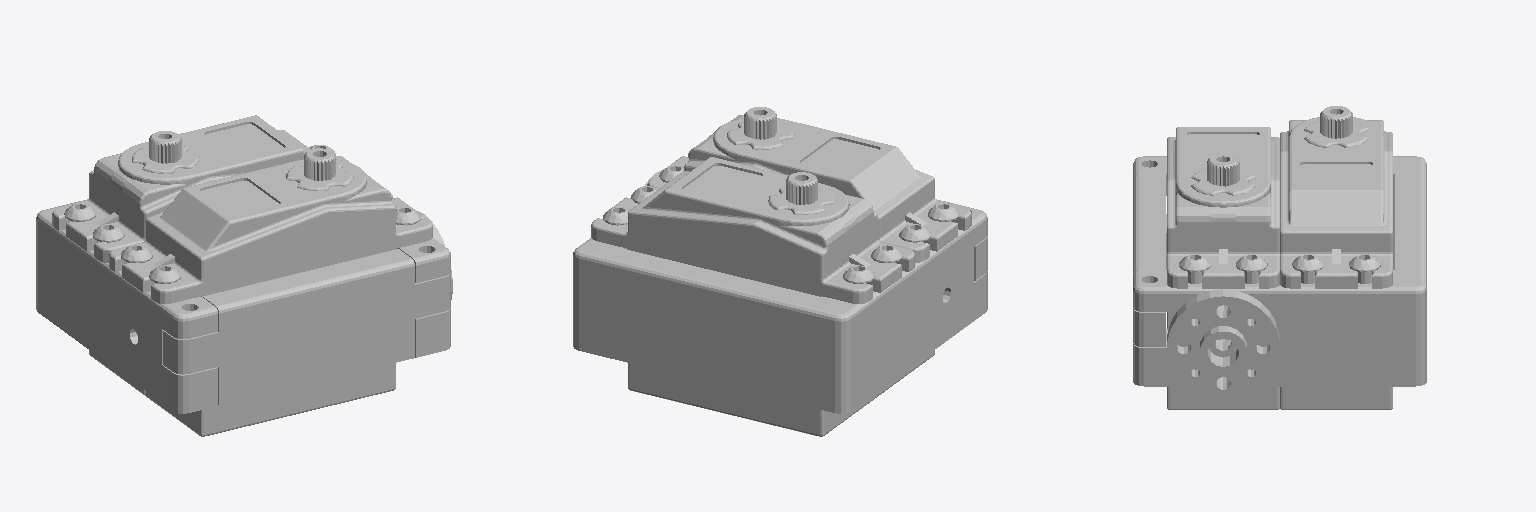
The model's file is rf shoulder.obj.
The picture shows the model from 3 angles: view 1: azimuth 30°, elevation 25°; view 2: azimuth 150°, elevation 25°; view 3: azimuth 270°, elevation 25°; orthographic projection.
Parts seen in each view (by area): view 1: Body4, Body7, Body6, Body4:1, Body2, Body3:1, Body3; view 2: Body6, Body4:1, Body4, Body2:1, Body3, Body3:1; view 3: Body6, Body4:1, Body4, Body1:10, Body7, Body2:1, Body2, Body3:1, Body3, Body1:6, Body1:9, Body1:8 (+1 smaller).
Boxes of the visible parts, box(x1,y1,x2,y2) form: Body4: box(109, 156, 432, 303); Body7: box(163, 249, 450, 405); Body6: box(36, 199, 450, 413); Body4:1: box(52, 115, 347, 262); Body2: box(146, 363, 395, 436); Body3:1: box(149, 131, 181, 163); Body3: box(304, 148, 335, 180); Body6: box(573, 203, 987, 413); Body4:1: box(591, 157, 914, 303); Body4: box(647, 115, 971, 262); Body2:1: box(628, 363, 877, 436); Body3: box(744, 107, 776, 139); Body3:1: box(786, 172, 817, 204); Body6: box(1133, 156, 1426, 386); Body4:1: box(1280, 117, 1392, 288); Body4: box(1167, 127, 1279, 288); Body1:10: box(1167, 289, 1279, 398); Body7: box(1133, 174, 1165, 346); Body2:1: box(1280, 387, 1392, 409); Body2: box(1167, 387, 1279, 409); Body3:1: box(1320, 106, 1352, 138); Body3: box(1207, 154, 1239, 186); Body1:6: box(1179, 254, 1210, 283); Body1:9: box(1349, 254, 1380, 283); Body1:8: box(1292, 254, 1323, 283).
Size of the model in its own units: 0.0618 by 0.0445 by 0.052.